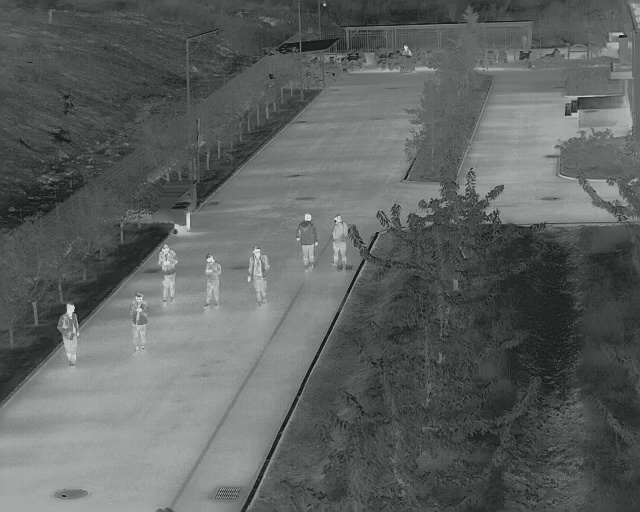NonMotorVehicle: (397, 44, 416, 74)
person: (55, 301, 81, 370), (294, 211, 321, 274), (245, 245, 271, 310), (128, 291, 149, 357), (200, 251, 222, 313), (157, 243, 178, 305), (329, 211, 348, 268)
